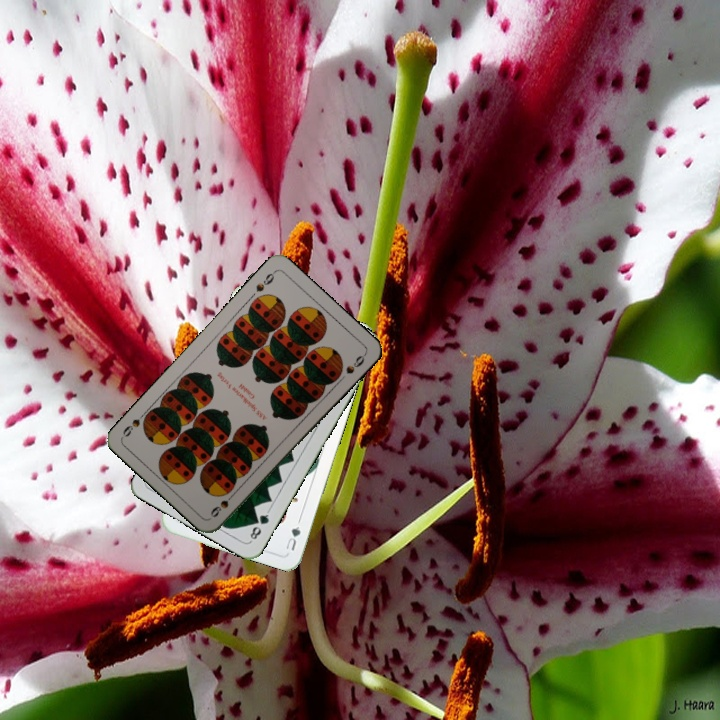G8: (245, 507, 272, 544)
GU: (282, 522, 303, 553)
S9: (206, 487, 239, 520), (252, 267, 278, 294)
